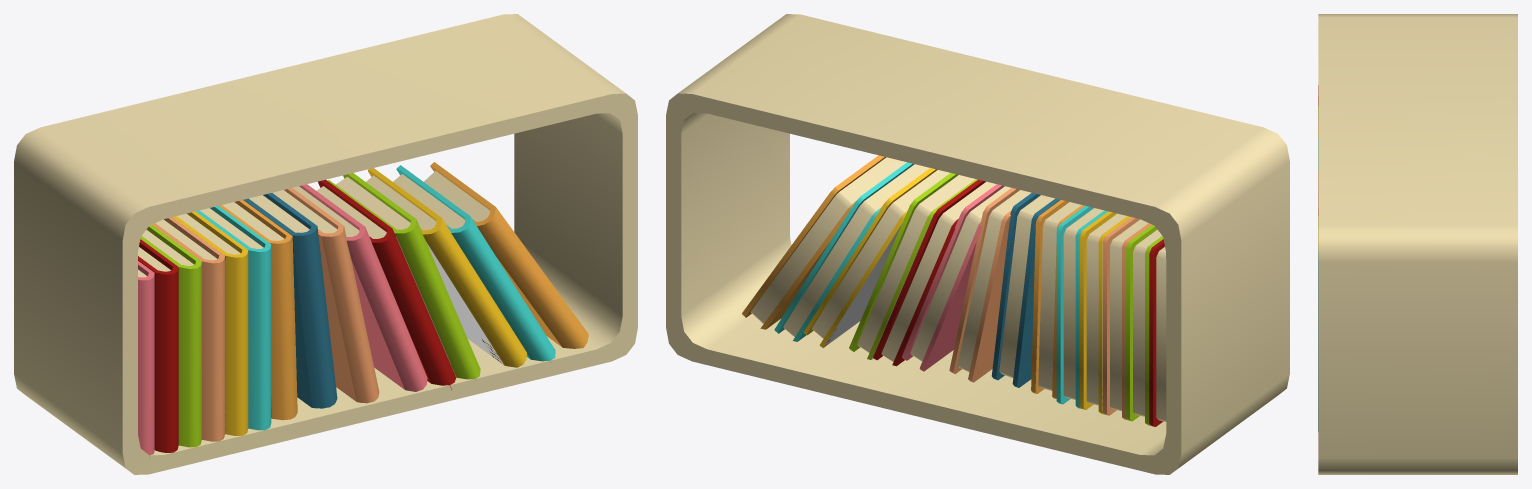
Rendered from Modular_bookshelf_part_7.FBX.
3 views of the same model, side by side, from view 1: azimuth 30°, elevation 25°; view 2: azimuth 150°, elevation 25°; view 3: azimuth 270°, elevation 25° (orthographic). The views are drawn at different scales.
Visible parts, largest first — view 1: Modular_bookshelf_part_7; view 2: Modular_bookshelf_part_7; view 3: Modular_bookshelf_part_7.
Boxes of the visible parts, left/top/right/bottom form: Modular_bookshelf_part_7: left=14, top=14, right=637, bottom=474; Modular_bookshelf_part_7: left=666, top=14, right=1289, bottom=474; Modular_bookshelf_part_7: left=1318, top=14, right=1517, bottom=474.
Bounding box in the file's own units: 62.53 × 31.02 × 22.84.
1 material, 1 textured.
